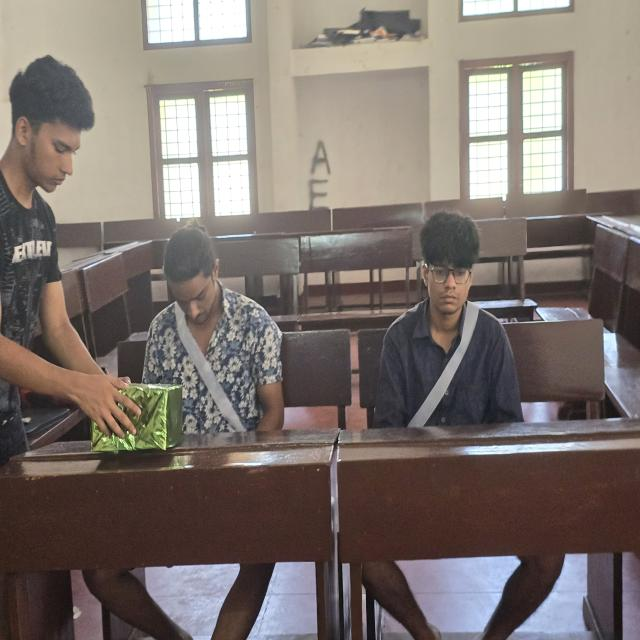seatbelt: (370, 306, 520, 424), (160, 308, 268, 434)
